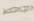microplastic: (3, 5, 34, 14)
